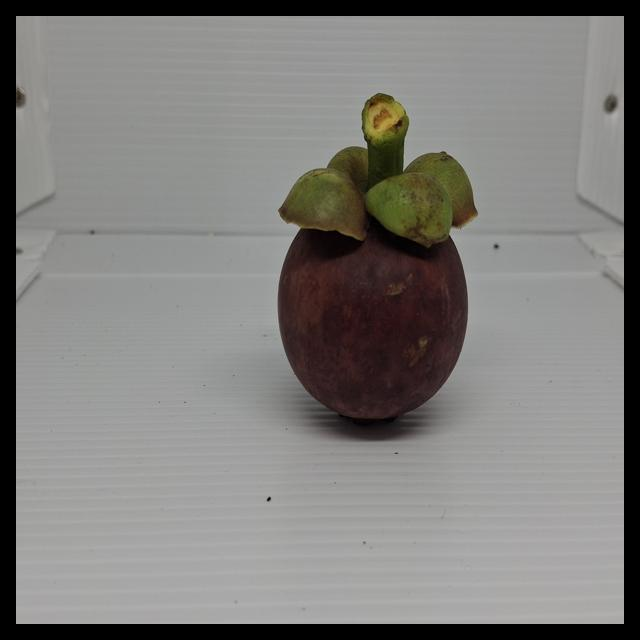mangosteen: (249, 52, 555, 425)
